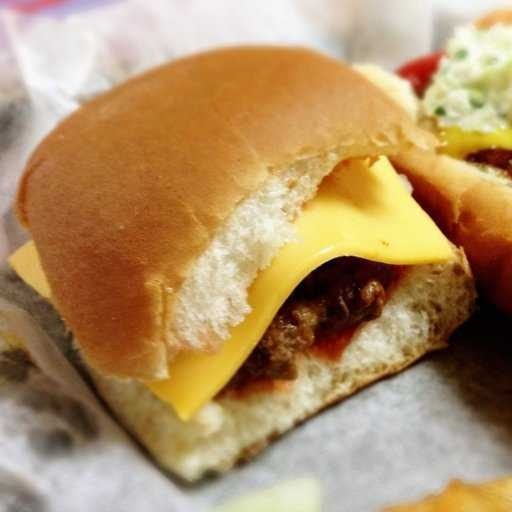hamburger: (53, 44, 475, 467)
